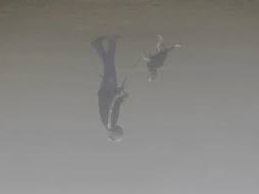person: (92, 34, 131, 143)
